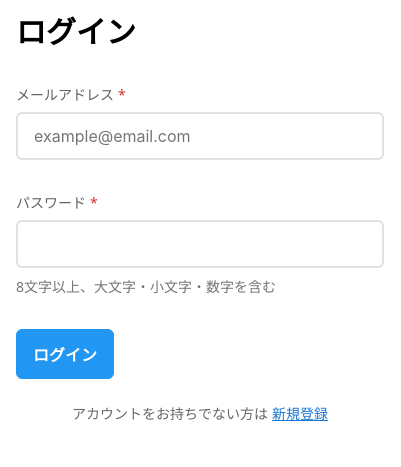
Test case: LoginPage Component › should show validation error when email format is invalid
Type "invalid-email" into the field labelled "メールアドレス*" at (200, 136), box [16,112,384,160]
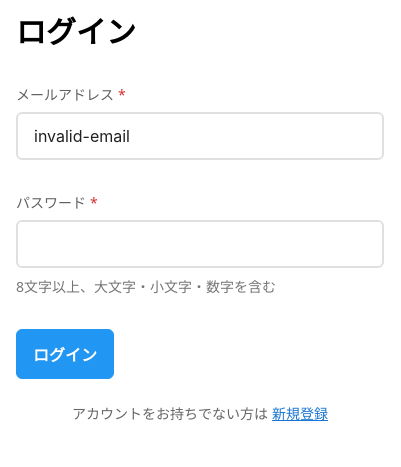
Click the button "ログイン" at (65, 354), box [16,329,114,379]
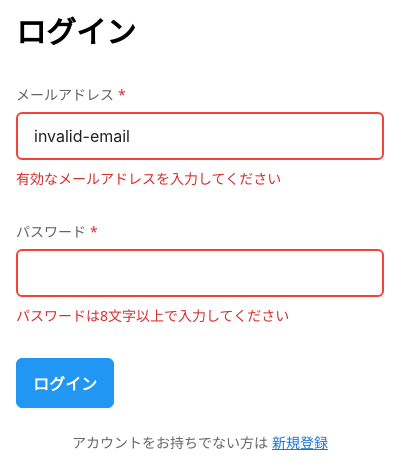
Result: the text "有効なメールアドレスを入力してください" is shown at [16,169,281,188]
